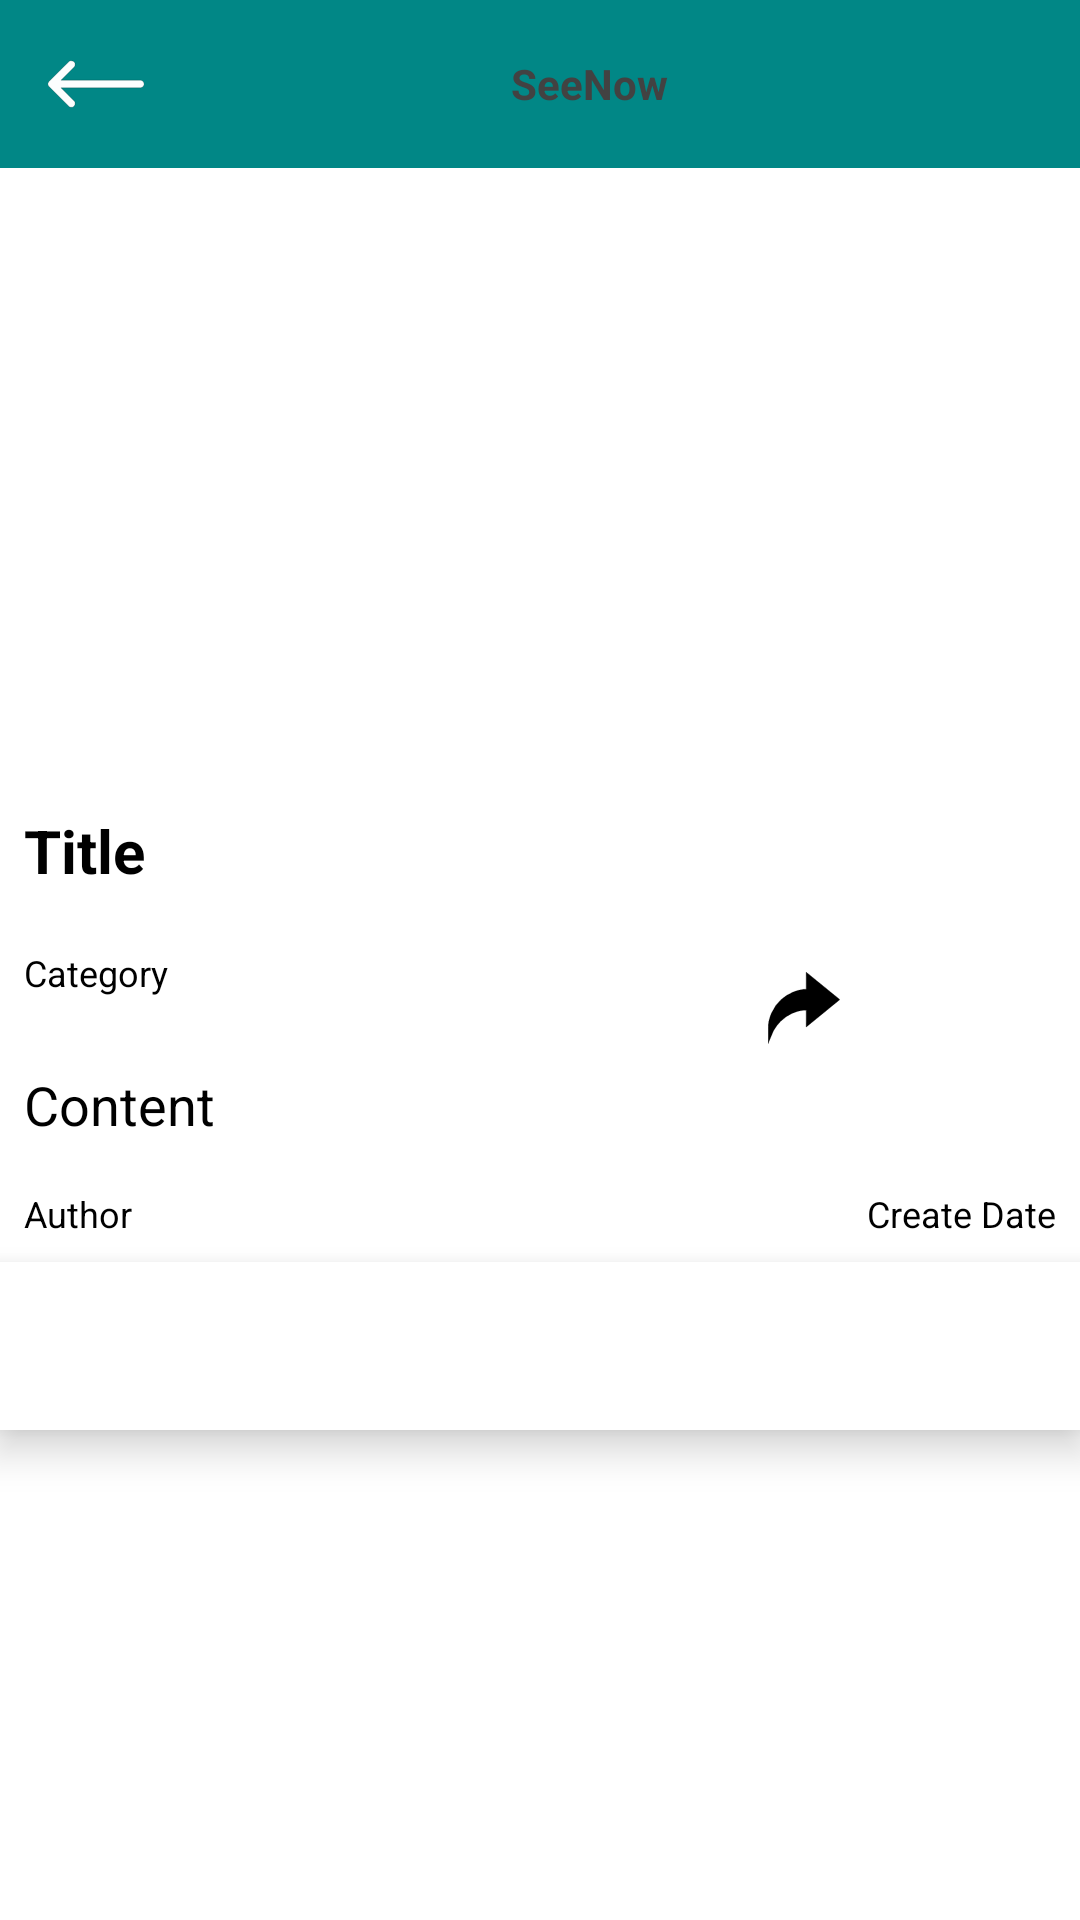

Where icons sit on this 1080x1920 app screen, as (x1, y1, x2, y2):
back: (48, 60, 144, 108)
share: (768, 972, 840, 1044)
